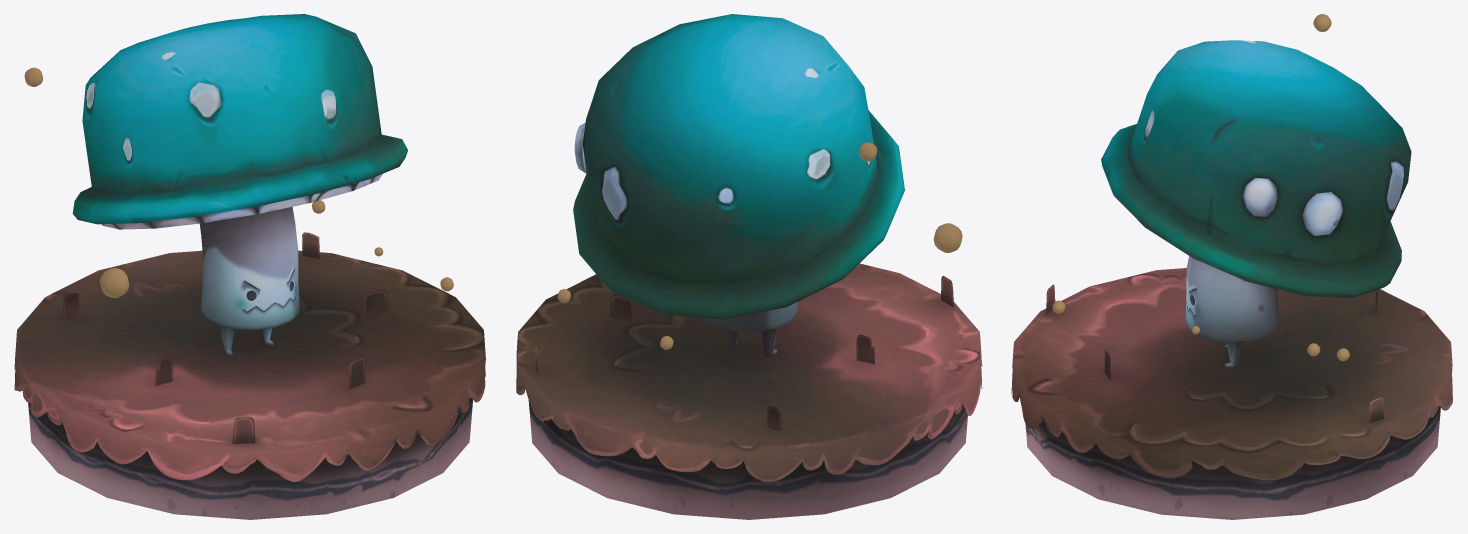
Rendered from mushroom183.gltf.
3 views of the same model, side by side, from view 1: azimuth 30°, elevation 25°; view 2: azimuth 150°, elevation 25°; view 3: azimuth 270°, elevation 25° (orthographic). The views are drawn at different scales.
Visible parts, largest first — view 1: Mesh_0, Mesh_1; view 2: Mesh_0, Mesh_1; view 3: Mesh_0, Mesh_1.
Boxes of the visible parts, left/top/right/bottom form: Mesh_0: left=14, top=67, right=485, bottom=519; Mesh_1: left=72, top=14, right=407, bottom=356; Mesh_0: left=516, top=142, right=982, bottom=519; Mesh_1: left=573, top=14, right=904, bottom=356; Mesh_0: left=1011, top=14, right=1452, bottom=519; Mesh_1: left=1101, top=40, right=1411, bottom=367.
Size of the model in its own units: 2.97 by 2.71 by 2.92.
2 materials, 2 textured.
